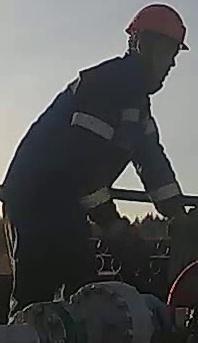gloves: (106, 212, 147, 271)
helmet: (124, 2, 189, 52)
vest: (0, 57, 153, 212)
